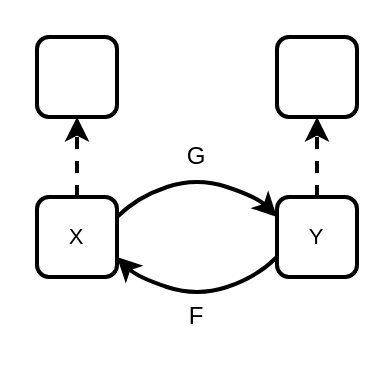
Some shapes in this 392 by 370 pixel diagram are drawn without their labels. Each missing label, with the box of its shape:
D X: (34, 34, 118, 118)
D Y: (274, 34, 358, 118)
